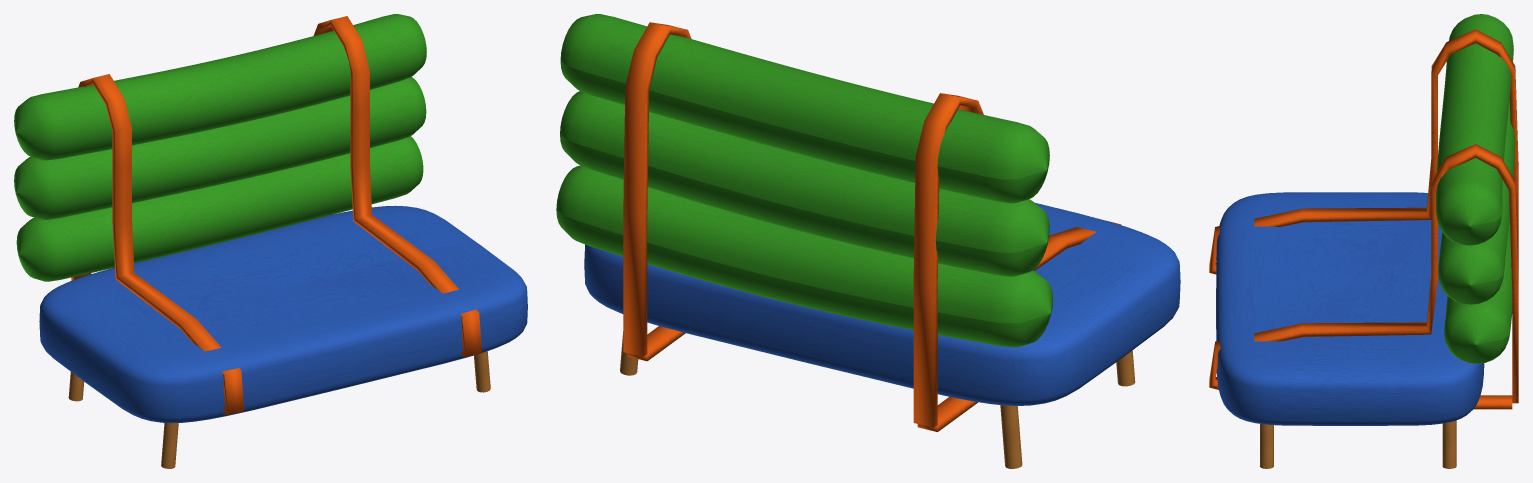
File: couch.glb
3 views of the same model, side by side, from view 1: azimuth 30°, elevation 25°; view 2: azimuth 150°, elevation 25°; view 3: azimuth 270°, elevation 25° (orthographic). The views are drawn at different scales.
Parts seen in each view (by area): view 1: couch_green tubes, couch_blue fabric, couch_orange rubber, couch_warm wood; view 2: couch_green tubes, couch_blue fabric, couch_orange rubber, couch_warm wood; view 3: couch_blue fabric, couch_green tubes, couch_orange rubber, couch_warm wood.
Part boxes in pixels (x1,y1,x2,y2): couch_green tubes: (14, 14, 426, 281); couch_blue fabric: (39, 205, 527, 423); couch_orange rubber: (71, 16, 482, 414); couch_warm wood: (68, 351, 490, 468); couch_green tubes: (556, 14, 1052, 347); couch_blue fabric: (584, 203, 1180, 405); couch_orange rubber: (623, 22, 1121, 432); couch_warm wood: (620, 331, 1135, 468); couch_blue fabric: (1216, 192, 1484, 425); couch_green tubes: (1436, 14, 1515, 363); couch_orange rubber: (1209, 29, 1518, 409); couch_warm wood: (1260, 420, 1456, 468).
Bounding box in the file's own units: 1.76 × 1.27 × 1.19.
4 materials, 4 textured.
